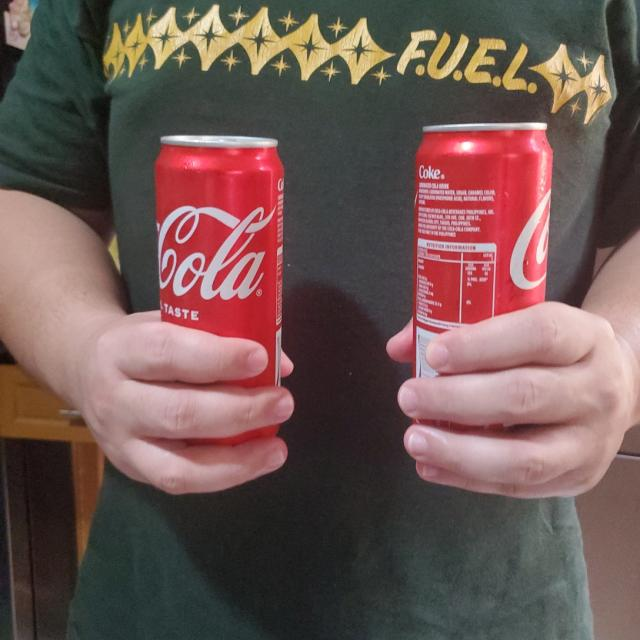coke: (409, 129, 552, 394), (161, 134, 288, 402)
